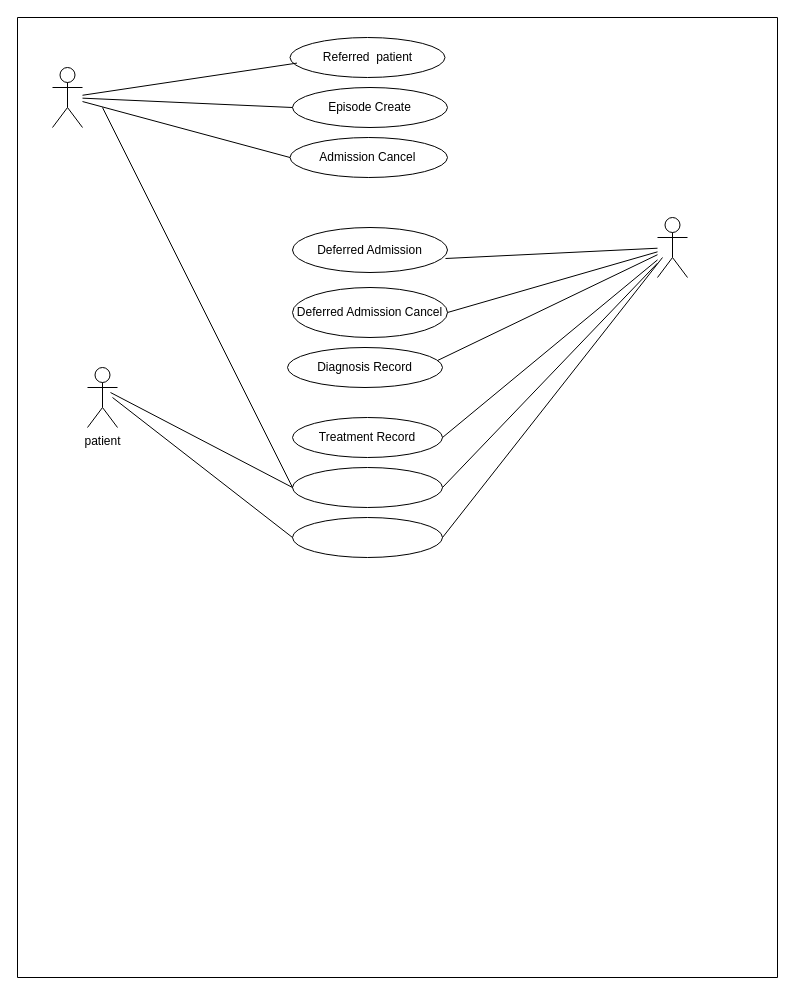
The diagram is 795 pixels wide and 995 high, and some of its shapes have lost their labels. The shapes that lost their labels are listed below. From the top down, each one's centre as x and y in pixels, then its label:
point 67,97: Community Doctor
point 672,247: Hospital Doctor
point 367,487: Discharged patient
point 367,537: Discharged Note
